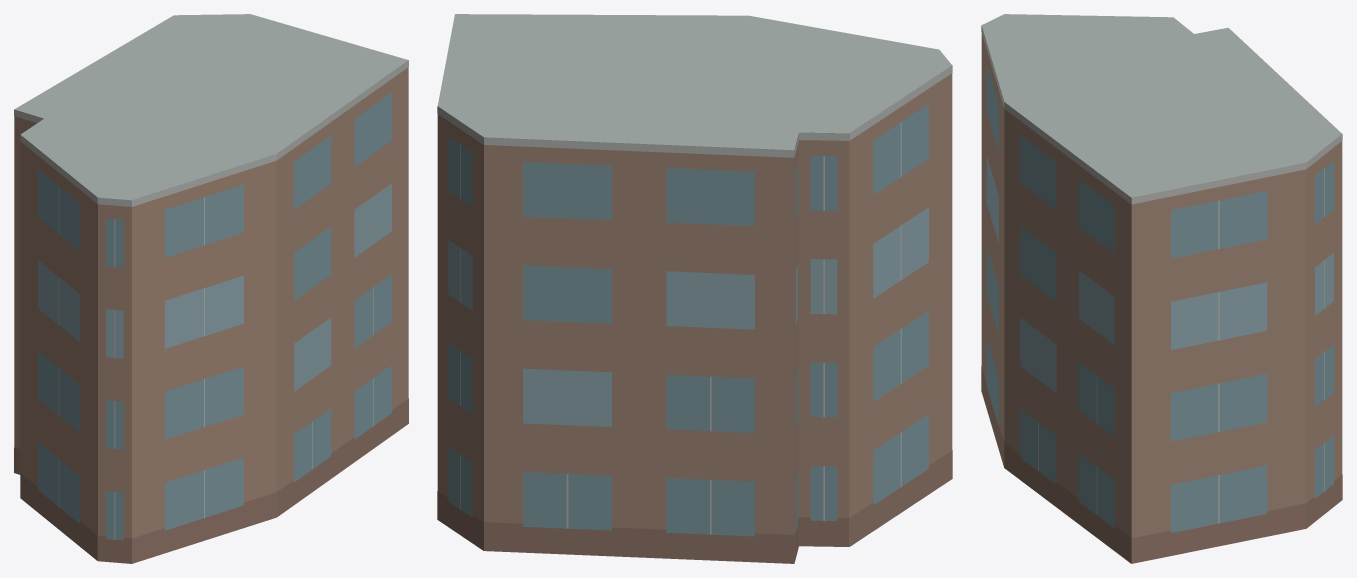
Rendered from survey-upis-32474066.glb.
The picture shows the model from 3 angles, left to right: view 1: azimuth 30°, elevation 25°; view 2: azimuth 150°, elevation 25°; view 3: azimuth 270°, elevation 25°; orthographic projection. The views are drawn at different scales.
Parts seen in each view (by area): view 1: survey-upis-32474066.tmp; view 2: survey-upis-32474066.tmp; view 3: survey-upis-32474066.tmp.
Part boxes in pixels (<box>): survey-upis-32474066.tmp: <box>14,14,408,563</box>; survey-upis-32474066.tmp: <box>437,14,952,563</box>; survey-upis-32474066.tmp: <box>981,14,1342,563</box>.
Size of the model in its own units: 14.33 by 13.3 by 11.89.
